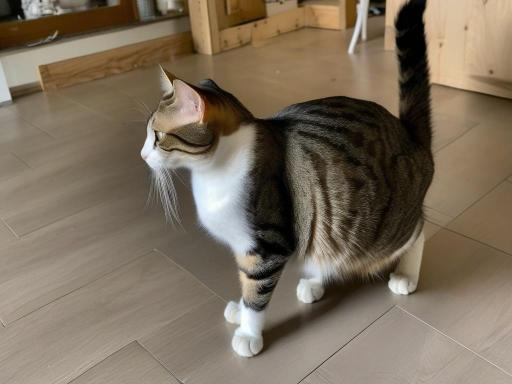cat_standing: (140, 0, 434, 356)
